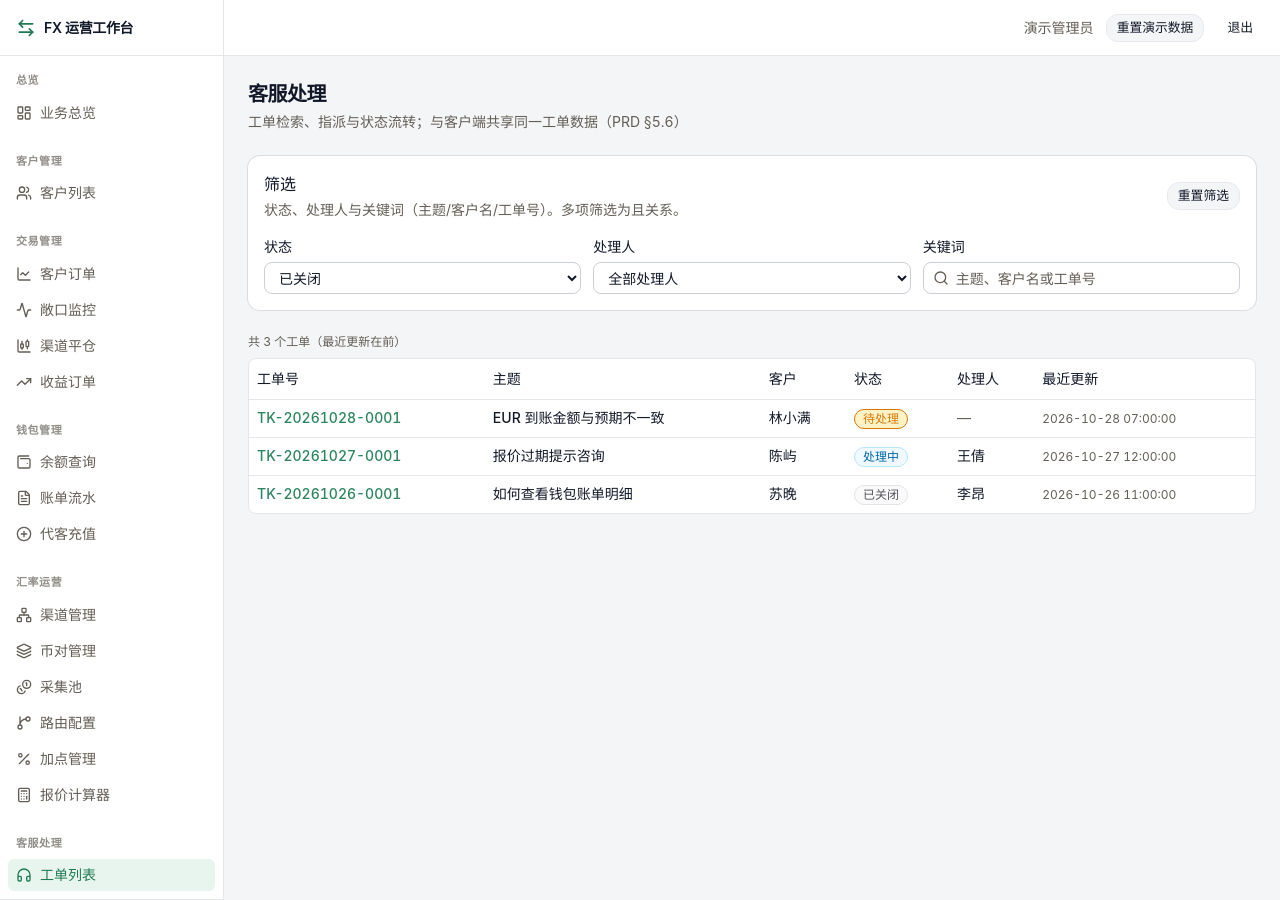
运营工单列表 › 状态筛选「已关闭」→ 仅剩已关闭工单
Select "已关闭" in the dropdown labelled "状态" at (423,278), box [264, 262, 581, 294]
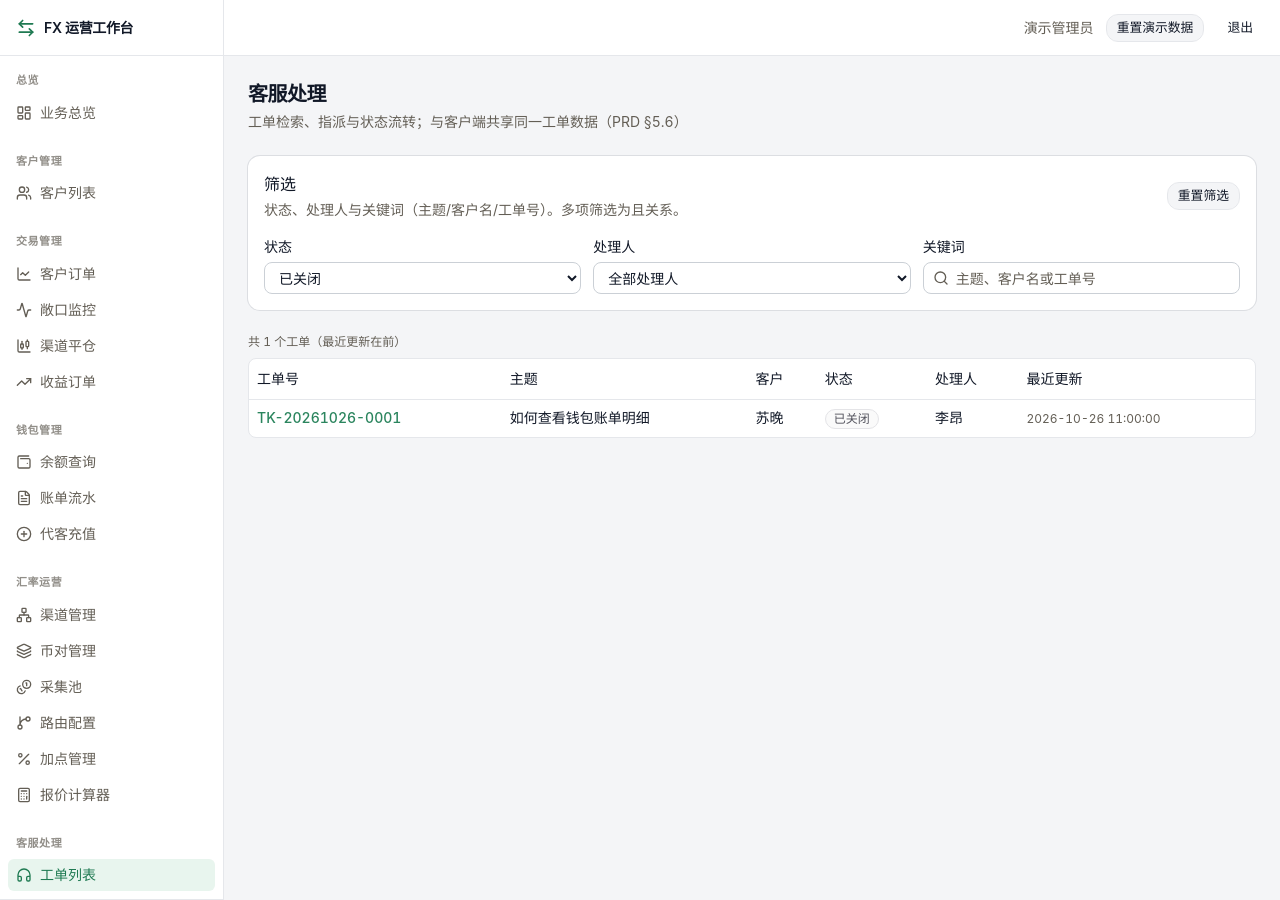
Now the text "EUR 到账金额与预期不一致" is gone
Now the text "报价过期提示咨询" is gone
Now the text "共 1 个工单" is shown, box [248, 334, 406, 349]
